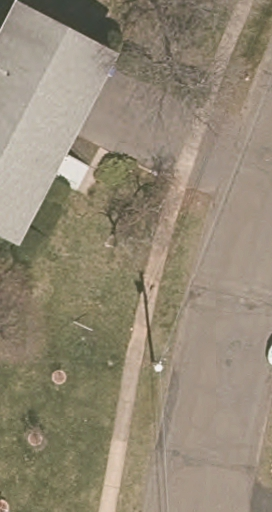DT: (148, 358, 168, 378)
